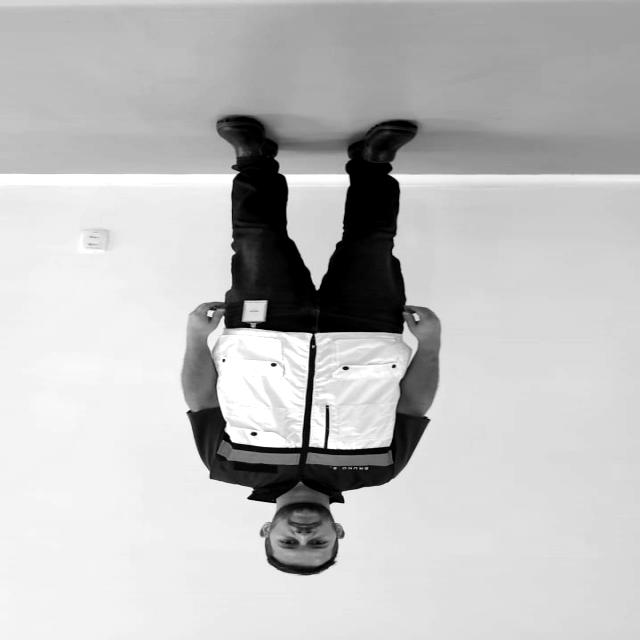Boots: (343, 116, 425, 168), (208, 112, 284, 167)
Vest: (219, 328, 391, 489)
